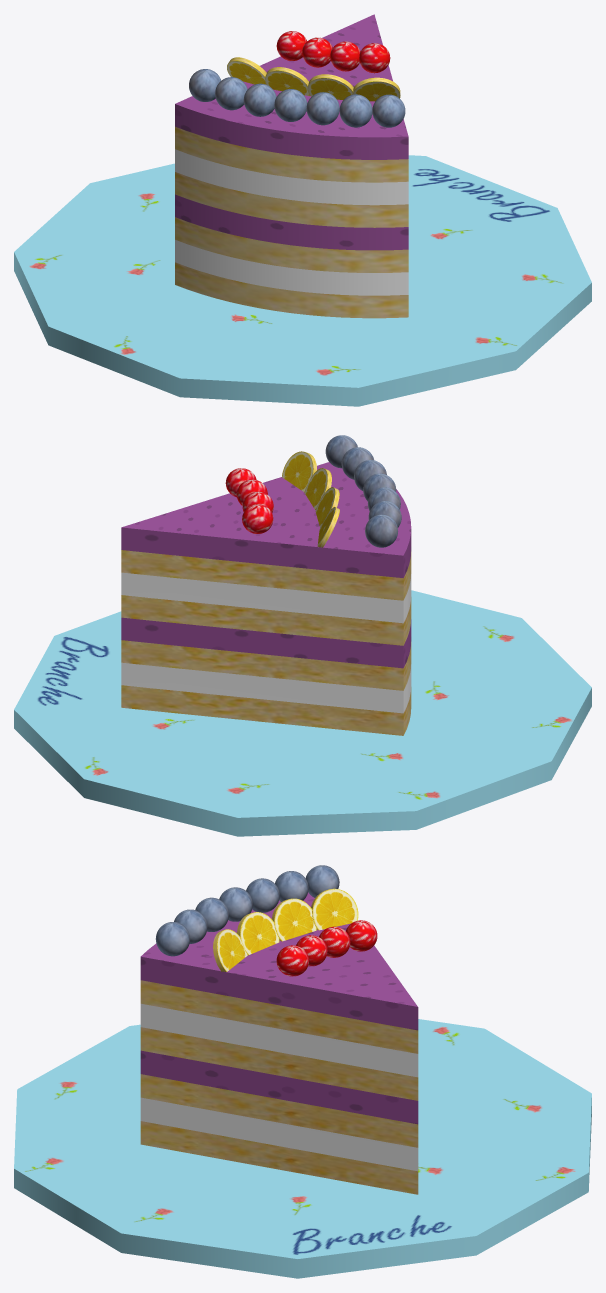
File: cake1111.FBX
3 renders of one model, top to bottom at view 1: azimuth 30°, elevation 25°; view 2: azimuth 150°, elevation 25°; view 3: azimuth 270°, elevation 25°, orthographic. The views are drawn at different scales.
Visible parts, largest first — view 1: Cylinder010, Cylinder008, Cylinder004, Cylinder009, Cylinder001, Cylinder006, Cylinder002, Cylinder005, Cylinder007, Sphere003, Sphere005, Sphere001 (+12 smaller); view 2: Cylinder010, Cylinder008, Cylinder002, Cylinder004, Cylinder007, Cylinder001, Cylinder005, Cylinder009, Cylinder006, Cylinder015, Sphere007, Sphere008 (+5 smaller); view 3: Cylinder010, Cylinder008, Cylinder001, Cylinder006, Cylinder002, Cylinder004, Cylinder007, Cylinder009, Cylinder005, Cylinder013, Cylinder014, Cylinder012 (+12 smaller).
Part boxes in pixels (x1=…): Cylinder010: x1=14, y1=155, x2=591, y2=406; Cylinder008: x1=175, y1=14, x2=408, y2=159; Cylinder004: x1=175, y1=194, x2=408, y2=250; Cylinder009: x1=175, y1=126, x2=408, y2=182; Cylinder001: x1=175, y1=262, x2=408, y2=318; Cylinder006: x1=175, y1=172, x2=408, y2=227; Cylinder002: x1=175, y1=240, x2=408, y2=295; Cylinder005: x1=175, y1=217, x2=408, y2=272; Cylinder007: x1=175, y1=149, x2=408, y2=205; Sphere003: x1=339, y1=94, x2=372, y2=127; Sphere005: x1=372, y1=94, x2=405, y2=127; Sphere001: x1=306, y1=92, x2=339, y2=125; Cylinder010: x1=14, y1=590, x2=591, y2=836; Cylinder008: x1=121, y1=462, x2=411, y2=578; Cylinder002: x1=121, y1=662, x2=411, y2=713; Cylinder004: x1=121, y1=617, x2=411, y2=668; Cylinder007: x1=121, y1=572, x2=411, y2=623; Cylinder001: x1=121, y1=685, x2=411, y2=735; Cylinder005: x1=121, y1=640, x2=411, y2=690; Cylinder009: x1=121, y1=550, x2=411, y2=600; Cylinder006: x1=121, y1=595, x2=411, y2=645; Cylinder015: x1=282, y1=451, x2=316, y2=492; Sphere007: x1=365, y1=514, x2=397, y2=547; Sphere008: x1=242, y1=504, x2=273, y2=533; Cylinder010: x1=14, y1=1019, x2=591, y2=1278; Cylinder008: x1=140, y1=892, x2=418, y2=1030; Cylinder001: x1=140, y1=1121, x2=418, y2=1194; Cylinder006: x1=140, y1=1027, x2=418, y2=1100; Cylinder002: x1=140, y1=1097, x2=418, y2=1171; Cylinder004: x1=140, y1=1050, x2=418, y2=1124; Cylinder007: x1=140, y1=1003, x2=418, y2=1077; Cylinder009: x1=140, y1=980, x2=418, y2=1053; Cylinder005: x1=140, y1=1074, x2=418, y2=1147; Cylinder013: x1=311, y1=888, x2=358, y2=930; Cylinder014: x1=272, y1=898, x2=316, y2=941; Cylinder012: x1=237, y1=912, x2=279, y2=955.
Size of the model in its own units: 1.78 by 0.7779 by 1.7.
Materials: 7 (7 with a texture image).
